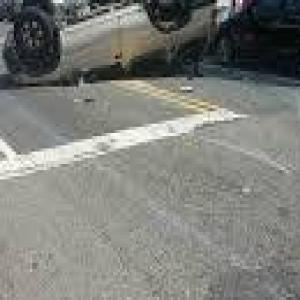fatal: (0, 0, 235, 89)
